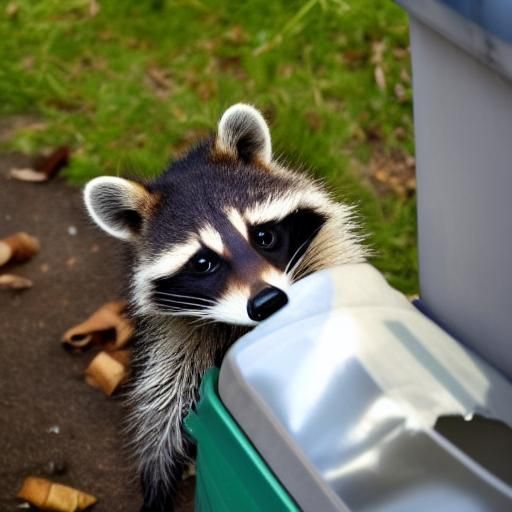raccoon: (70, 91, 381, 493)
